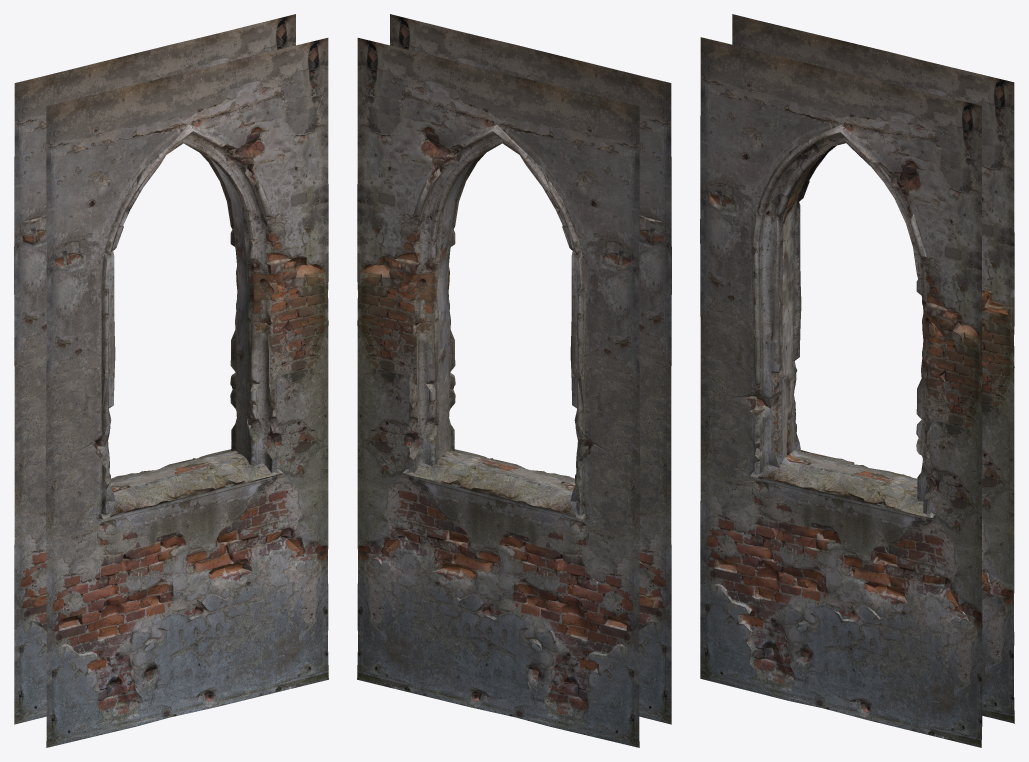
Rendered from SM_ChapelWall_01_05.fbx.
3 renders of one model, left to right at view 1: azimuth 30°, elevation 25°; view 2: azimuth 150°, elevation 25°; view 3: azimuth 330°, elevation 25°, orthographic.
Visible parts, largest first — view 1: sm_ChapelWall_01_05_LOD0; view 2: sm_ChapelWall_01_05_LOD0; view 3: sm_ChapelWall_01_05_LOD0.
Part boxes in pixels (bbox=[...]): sm_ChapelWall_01_05_LOD0: bbox=[14, 14, 328, 747]; sm_ChapelWall_01_05_LOD0: bbox=[357, 14, 671, 747]; sm_ChapelWall_01_05_LOD0: bbox=[700, 14, 1014, 747].
Size of the model in its own units: 60.34 by 250 by 544.
